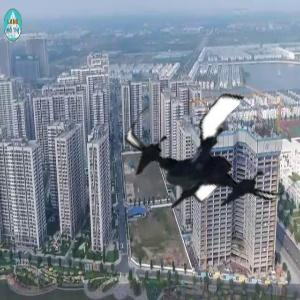drone: (126, 80, 287, 241)
